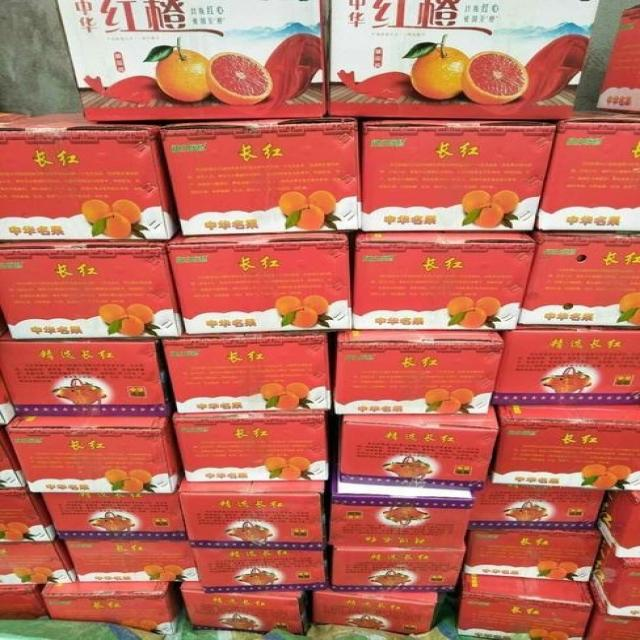box: (327, 0, 599, 119), (56, 0, 325, 120), (157, 117, 362, 235), (0, 111, 180, 241), (359, 119, 557, 231), (167, 232, 351, 335), (354, 231, 535, 330), (0, 242, 184, 339), (0, 331, 174, 416), (161, 332, 330, 415), (333, 333, 504, 415), (338, 406, 501, 491), (5, 416, 182, 494), (538, 107, 640, 233), (329, 461, 475, 549), (490, 406, 640, 489), (488, 328, 640, 405), (517, 232, 640, 327), (172, 413, 328, 482), (177, 480, 325, 551), (454, 572, 593, 640), (42, 576, 177, 630), (325, 541, 467, 591), (463, 531, 601, 582), (180, 582, 311, 635), (41, 494, 189, 540), (467, 483, 603, 531), (193, 547, 327, 593), (64, 540, 198, 583), (312, 590, 438, 633), (595, 3, 640, 113), (588, 540, 640, 618), (0, 540, 77, 587), (0, 488, 55, 542), (597, 491, 640, 558), (584, 608, 640, 640), (0, 585, 47, 619), (0, 427, 25, 489), (0, 374, 14, 425), (1, 111, 26, 123)
